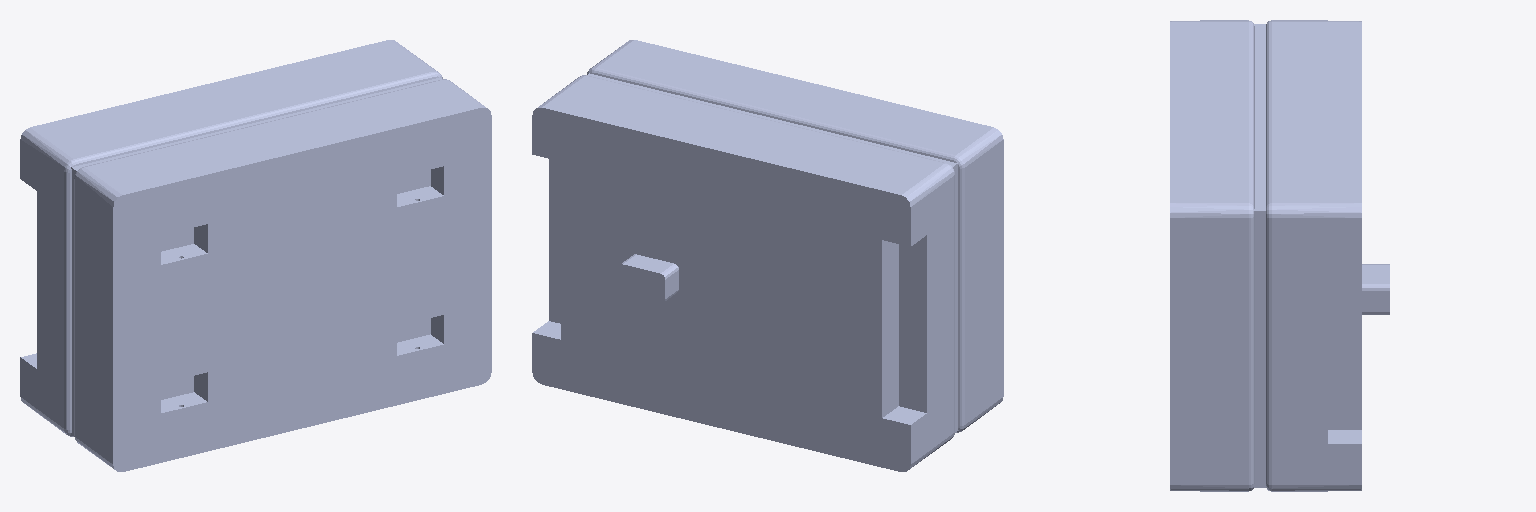
URDF robot description (body):
<?xml version="1.0" encoding="utf-8"?>
<!-- This URDF was automatically created by SolidWorks to URDF Exporter! Originally created by [author] ([email redacted]) 
     Commit Version: 1.5.1-0-g916b5db  Build Version: 1.5.7152.31018
     For more information, please see http://wiki.ros.org/sw_urdf_exporter -->
<robot
  name="body">
  <link
    name="body">
    <inertial>
      <origin
        xyz="0.40028 -0.17084 -0.28"
        rpy="0 0 0" />
      <mass
        value="148.06" />
      <inertia
        ixx="5.2811"
        ixy="-0.0081074"
        ixz="-1.75580000496419E-10"
        iyy="11.5"
        iyz="-2.47496418191666E-16"
        izz="9.019" />
    </inertial>
    <visual>
      <origin
        xyz="0 0 0"
        rpy="1.5707963267949 0 0" />
      <geometry>
        <mesh
          filename="package://body/meshes/body.STL" />
      </geometry>
      <material
        name="">
        <color
          rgba="0.79216 0.81961 0.93333 1" />
        <texture
          filename="package://body/textures/" />
      </material>
    </visual>
    <collision>
      <origin
        xyz="0 0 0"
        rpy="1.5707963267949 0 0" />
      <geometry>
        <mesh
          filename="package://body/meshes/body.STL" />
      </geometry>
    </collision>
  </link>
</robot>

--- Render facts (derived) ---
3 views of the same robot in one strip: view 1: azimuth 30°, elevation 25°; view 2: azimuth 150°, elevation 25°; view 3: azimuth 270°, elevation 25° (orthographic).
Model body with 1 links and 0 joints (none), rooted at body, posed every joint at zero.
Visible links, largest first — view 1: body; view 2: body; view 3: body.
Boxes of the visible links, box(x1,y1,x2,y2) form: body: box(20, 40, 491, 471); body: box(532, 40, 1003, 471); body: box(1170, 20, 1389, 491).
Bounding box of the posed robot: 0.8 × 0.39 × 0.56 m (x, y, z).
Meshes: 1 distinct files referenced, 1 mesh visuals loaded (1 binary STL).